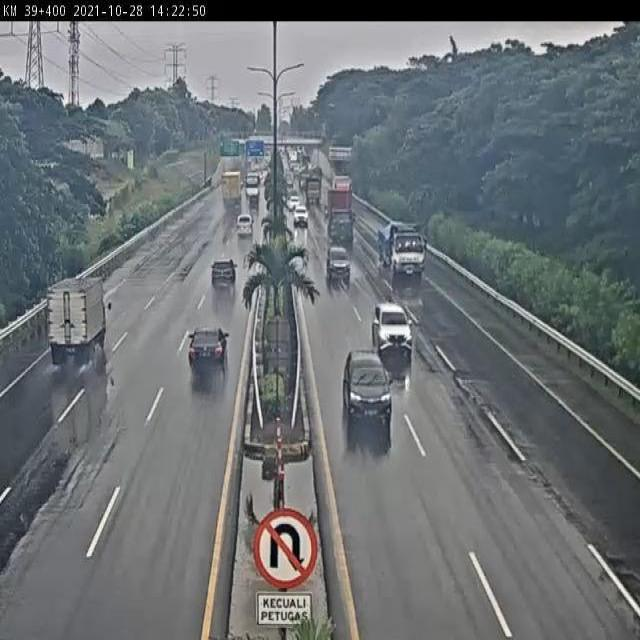car: (342, 348, 392, 435), (188, 324, 230, 369), (209, 259, 238, 288)
truck-l-: (376, 220, 431, 287)
truck-m-: (44, 274, 113, 362)
truck-xl-: (327, 188, 356, 243)
